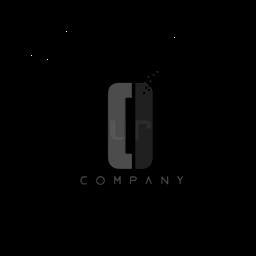a: (143, 172, 155, 188)
c: (77, 170, 91, 188)
m: (110, 172, 124, 188)
n: (160, 174, 170, 186)
o: (94, 172, 106, 186)
p: (129, 172, 139, 188)
y: (175, 171, 185, 187)
